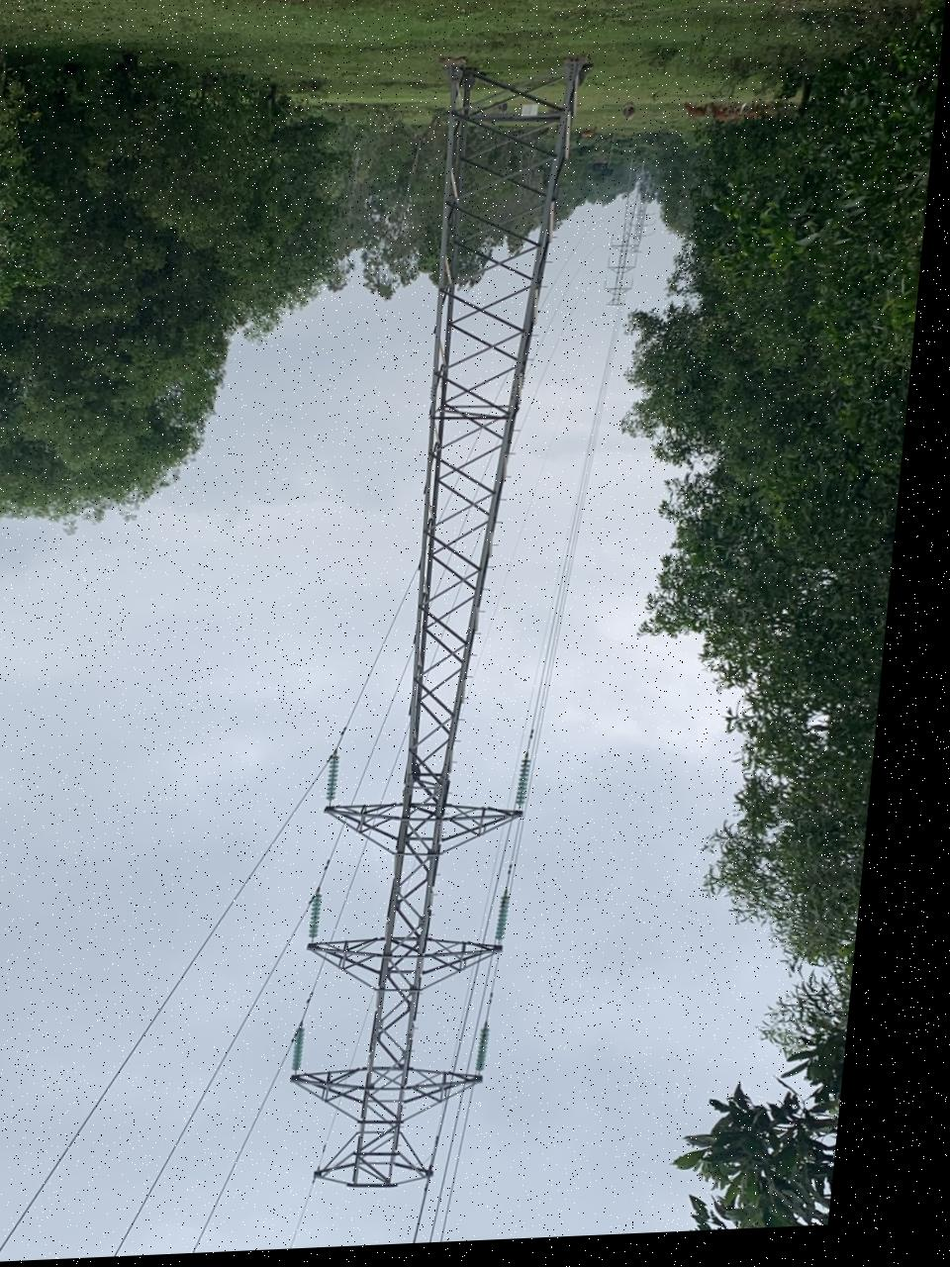tower: (270, 46, 588, 1212)
